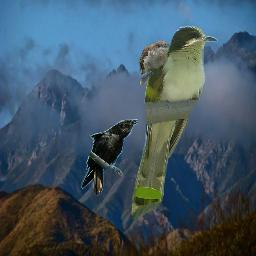Crow: (81, 119, 138, 196)
Cuckoo: (131, 26, 218, 219), (138, 40, 170, 86)
